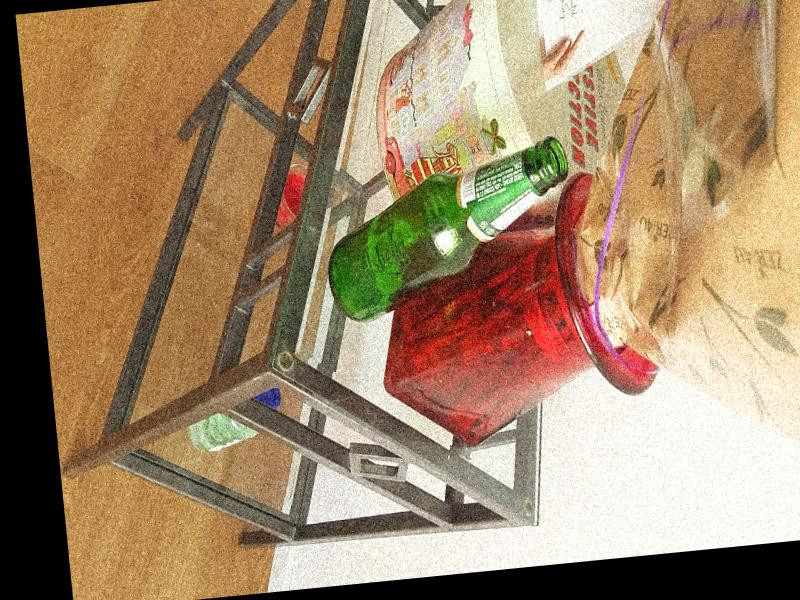Beer: (317, 138, 581, 325)
